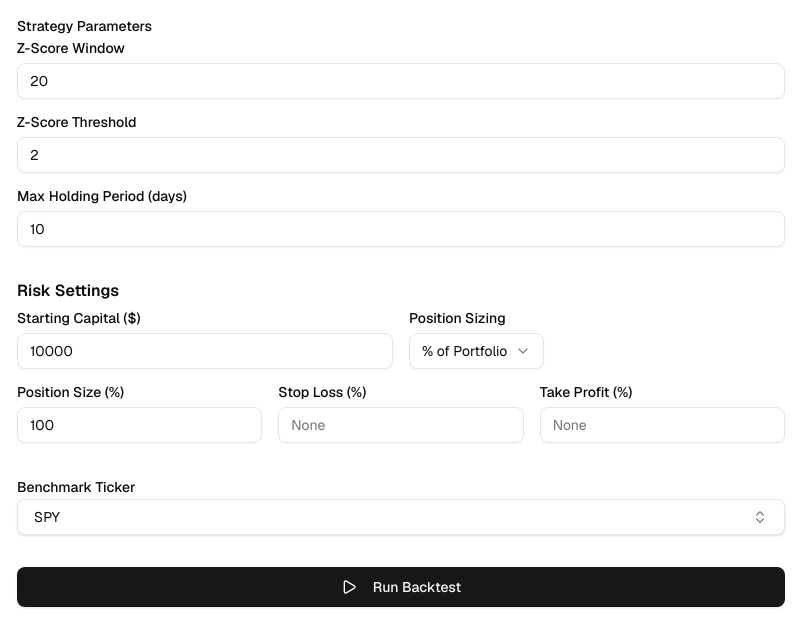
StrategyBuilderForm — inline validation errors › shows inline ticker error when ticker is empty
(page scrolled)
Click the button with test id "run-backtest-button" at coordinates (401, 587), box [17,567,785,607]
(page scrolled)
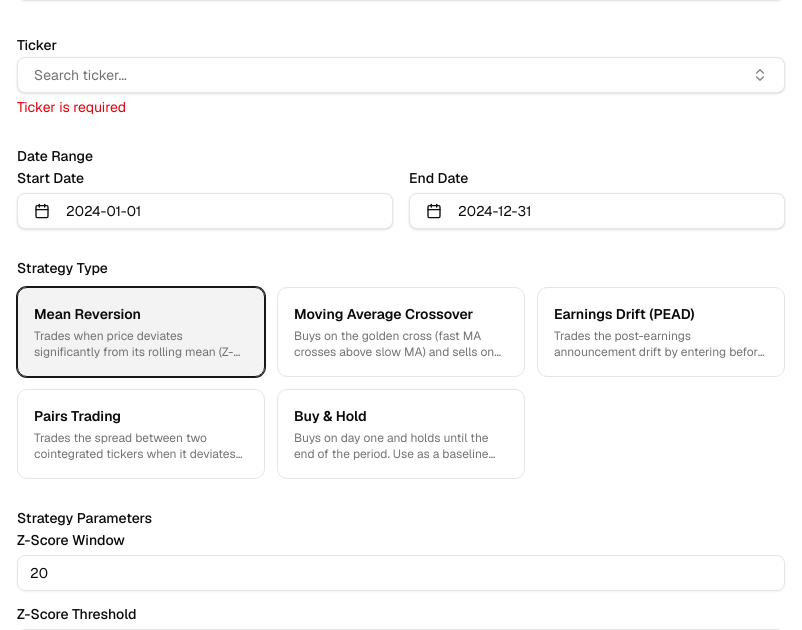
expect the text with test id "field-error-ticker" reads "Ticker is required": met, box [17,98,126,116]
